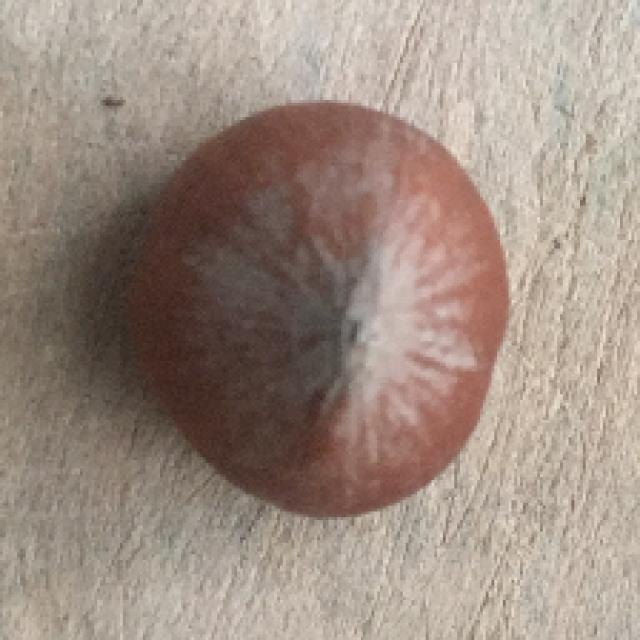QualityHazelnut: (127, 100, 519, 528)
